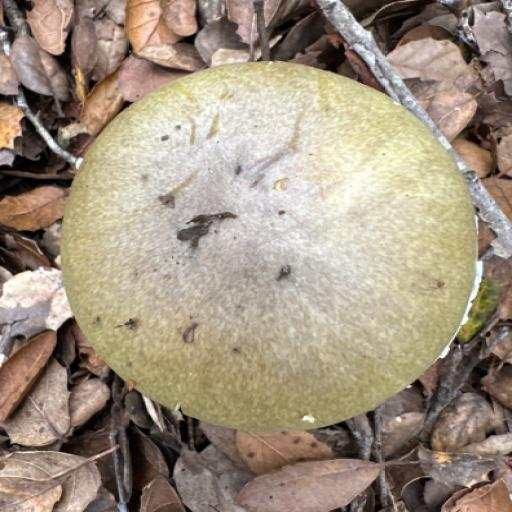Death Cap: (33, 25, 507, 467)
